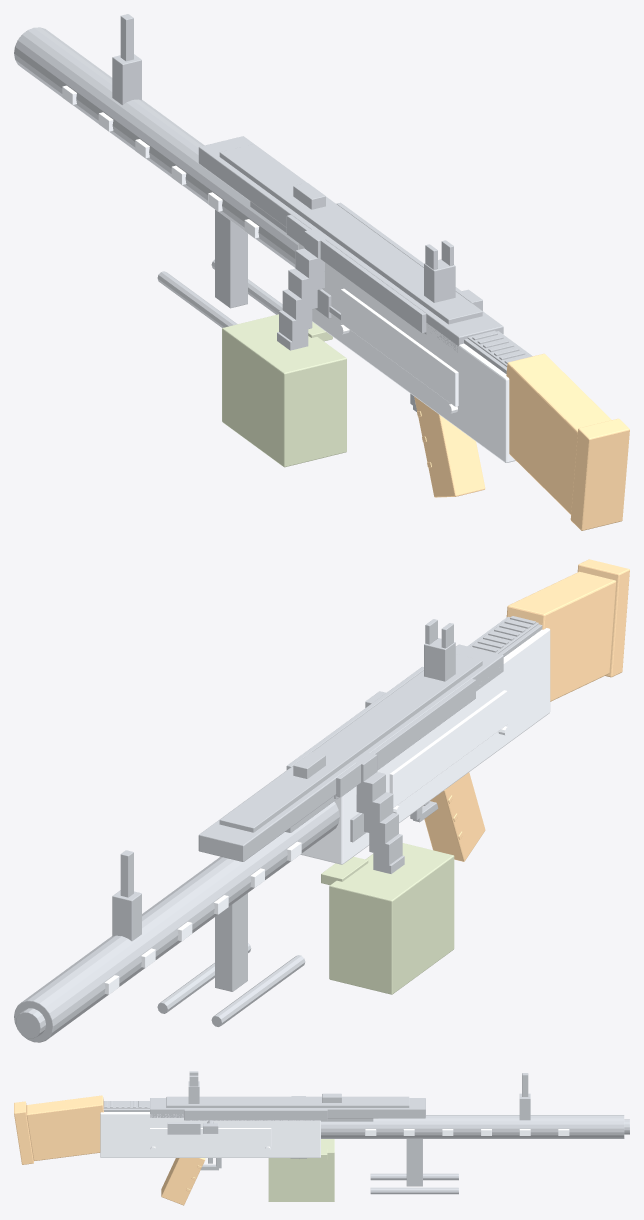
3 views of the same model, one above another, from view 1: azimuth 30°, elevation 25°; view 2: azimuth 150°, elevation 25°; view 3: azimuth 270°, elevation 25° (orthographic). The views are drawn at different scales.
Visible parts, largest first — view 1: mag, FeedCover, BarrelSleeve, Receiver, StockBody, StockBodyPlate, ReceiverRibL, Grip, FeedTray, StockIrons, BeltTail, BipodMount (+2 smaller); view 2: mag, BarrelSleeve, FeedCover, Receiver, StockBody, ReceiverRibL, FeedTray, StockIrons, BeltTail, Grip, BipodMount, StockBodyPlate (+4 smaller); view 3: Receiver, BarrelSleeve, FeedCover, StockBody, mag, ReceiverRibR, FeedTray, Grip, StockIrons, StockBodyPlate, BipodMount, BipodLegR (+3 smaller).
Boxes of the visible parts, bbox=[...] form: mag: bbox=[222, 314, 346, 467]; FeedCover: bbox=[198, 136, 503, 352]; BarrelSleeve: bbox=[14, 27, 297, 267]; Receiver: bbox=[298, 243, 532, 462]; StockBody: bbox=[506, 353, 611, 514]; StockBodyPlate: bbox=[570, 418, 629, 530]; ReceiverRibL: bbox=[341, 288, 458, 406]; Grip: bbox=[414, 396, 485, 497]; FeedTray: bbox=[286, 202, 475, 334]; StockIrons: bbox=[112, 14, 455, 302]; BeltTail: bbox=[277, 229, 329, 350]; BipodMount: bbox=[215, 210, 247, 308]; mag: bbox=[321, 843, 454, 994]; BarrelSleeve: bbox=[14, 801, 339, 1042]; FeedCover: bbox=[198, 644, 503, 861]; Receiver: bbox=[300, 619, 550, 864]; StockBody: bbox=[506, 571, 616, 701]; ReceiverRibL: bbox=[389, 690, 507, 807]; FeedTray: bbox=[286, 666, 475, 798]; StockIrons: bbox=[112, 619, 455, 941]; BeltTail: bbox=[356, 753, 404, 873]; Grip: bbox=[424, 772, 485, 861]; BipodMount: bbox=[215, 893, 247, 991]; StockBodyPlate: bbox=[577, 559, 629, 677]; Receiver: bbox=[100, 1112, 320, 1157]; BarrelSleeve: bbox=[321, 1115, 624, 1138]; FeedCover: bbox=[150, 1096, 425, 1118]; StockBody: bbox=[26, 1095, 103, 1160]; mag: bbox=[268, 1139, 334, 1201]; ReceiverRibR: bbox=[150, 1128, 271, 1146]; FeedTray: bbox=[184, 1100, 327, 1120]; Grip: bbox=[161, 1158, 205, 1205]; StockIrons: bbox=[188, 1071, 530, 1120]; StockBodyPlate: bbox=[14, 1101, 33, 1164]; BipodMount: bbox=[406, 1139, 422, 1186]; BipodLegR: bbox=[370, 1187, 458, 1194].
Bounding box in the file's own units: 0.152 × 0.268 × 1.12.
